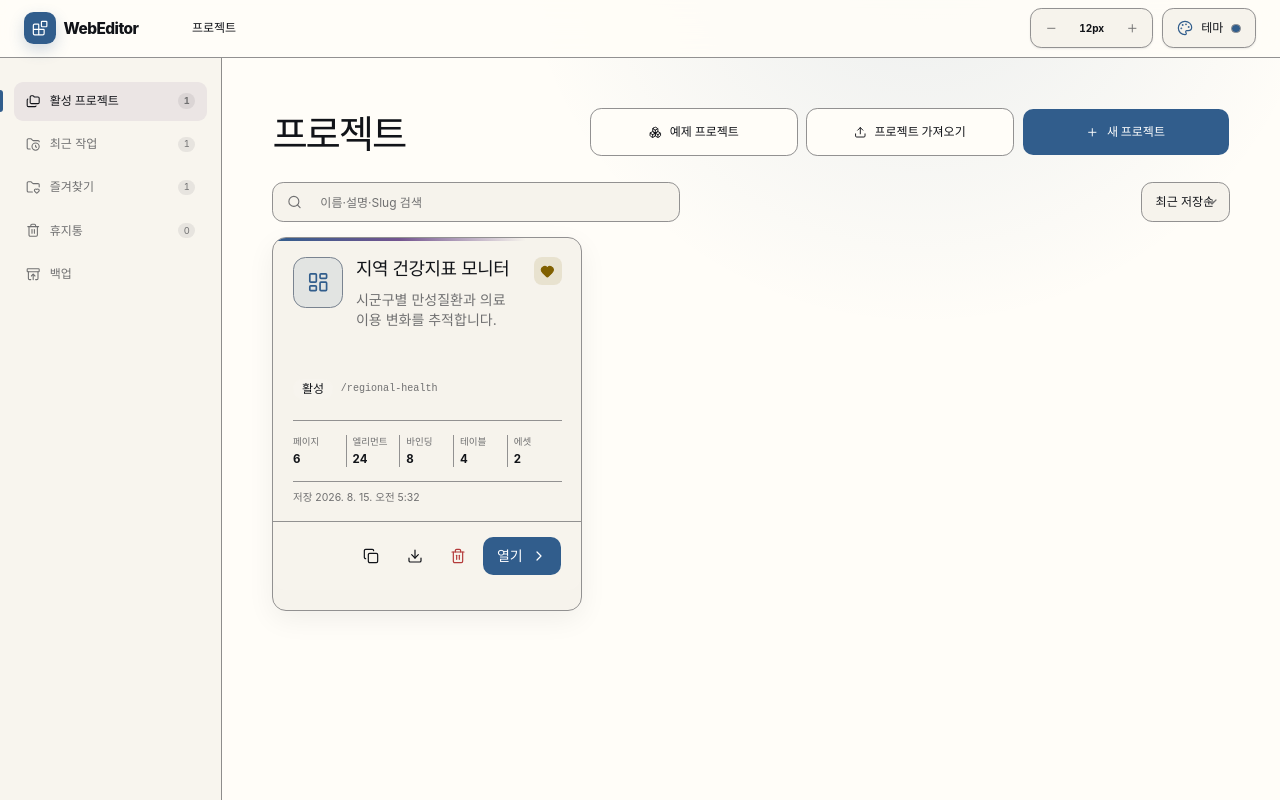
Test case: WebEditor persistent project home › keeps the project revision monotonic across stale page reads
Expected: the heading "지역 건강지표 모니터" is shown, [356,257,521,282]
Click the button "열기" at (522, 556), box [482,536,562,576]
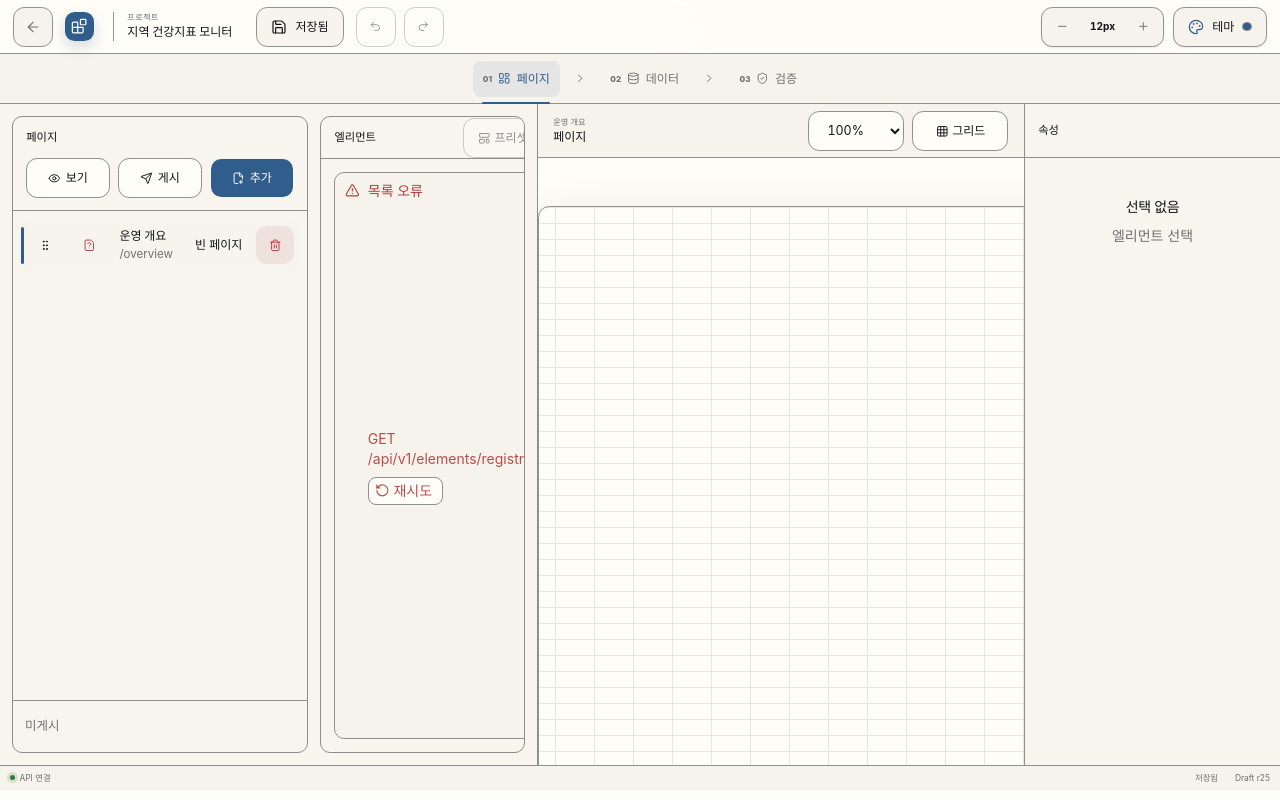
Now the text "Draft r25" is shown, box [1235,772,1270,784]
